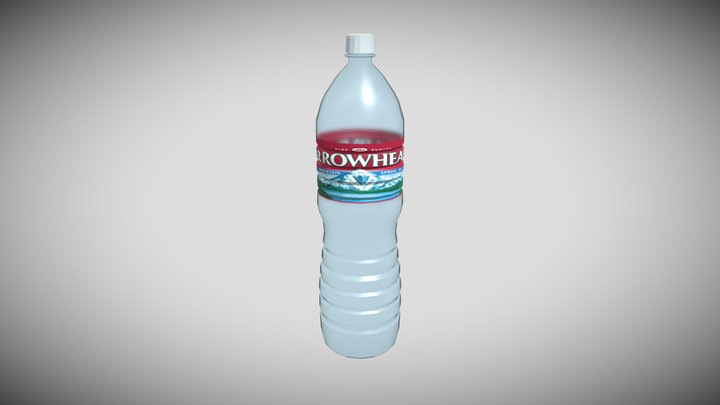plastic_bottle: (310, 29, 413, 364)
